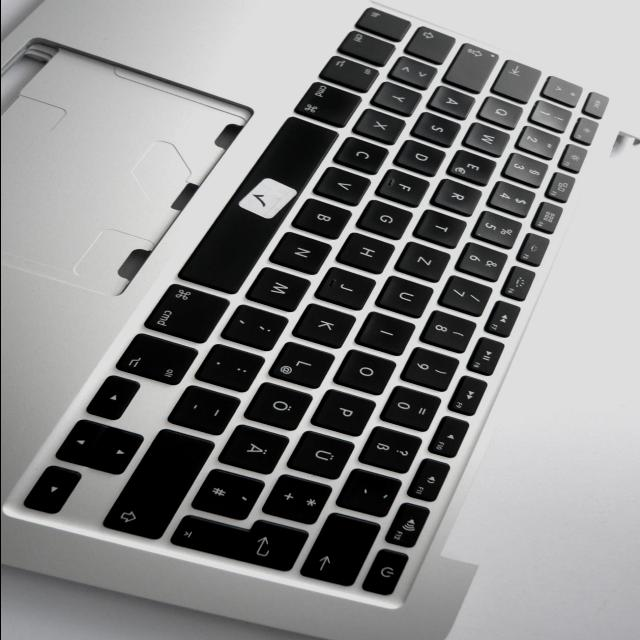0: (384, 385, 445, 433)
1: (533, 99, 576, 133)
2: (520, 125, 565, 160)
3: (506, 151, 552, 188)
4: (492, 180, 540, 218)
5: (477, 209, 525, 249)
6: (460, 241, 510, 282)
7: (443, 274, 495, 317)
8: (424, 309, 480, 354)
9: (405, 346, 462, 392)
a: (432, 85, 480, 119)
accent: (342, 468, 406, 517)
ae: (222, 424, 293, 474)
alt-left: (319, 55, 379, 93)
altgr-right: (115, 334, 199, 385)
b: (296, 198, 355, 240)
c: (337, 135, 391, 175)
caret: (545, 75, 585, 107)
comma: (227, 304, 292, 352)
d: (397, 138, 449, 176)
del: (301, 512, 384, 586)
e: (451, 148, 500, 186)
enter: (171, 516, 315, 572)
f: (381, 169, 433, 207)
g: (360, 199, 415, 239)
h: (341, 232, 397, 274)
hash: (193, 468, 269, 521)
i: (361, 311, 419, 357)
j: (319, 266, 379, 310)
k: (297, 302, 359, 348)
keyboard: (1, 0, 629, 610)
l: (271, 341, 338, 389)
less: (392, 55, 440, 90)
m: (250, 266, 314, 312)
minus: (173, 385, 244, 435)
n: (274, 231, 335, 275)
o: (337, 348, 400, 395)
oe: (248, 381, 316, 431)
p: (317, 388, 379, 436)
plus: (268, 474, 336, 524)
point: (202, 343, 270, 393)
q: (481, 95, 527, 130)
r: (435, 178, 486, 217)
s: (415, 111, 464, 146)
shift-left: (407, 26, 459, 65)
shift-lock: (446, 43, 504, 93)
shift-right: (105, 429, 217, 540)
space: (178, 115, 342, 295)
ss: (364, 425, 426, 474)
strg-left: (341, 30, 397, 68)
t: (419, 209, 471, 249)
tab: (493, 59, 546, 104)
u: (381, 275, 437, 319)
ue: (292, 430, 358, 480)
v: (318, 166, 374, 207)
w: (468, 121, 515, 156)
x: (357, 107, 409, 144)
y: (376, 80, 425, 116)
z: (400, 241, 454, 283)
